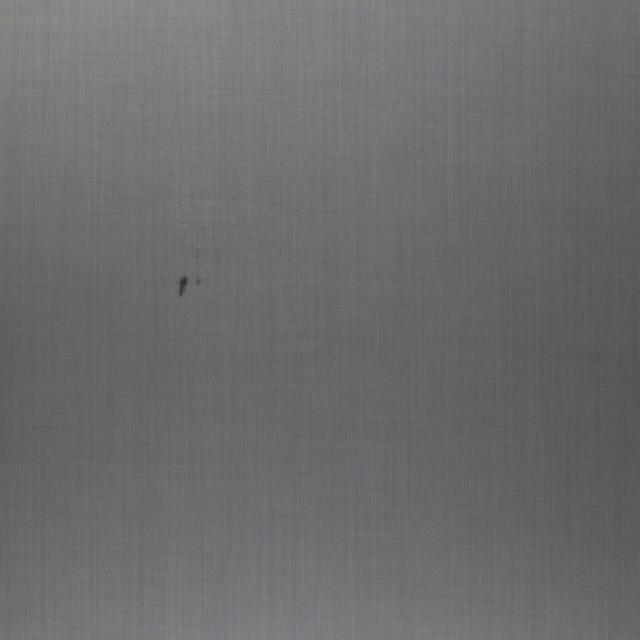dirty: (178, 276, 188, 298), (195, 278, 201, 286), (233, 196, 235, 203)
